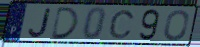0: (79, 6, 109, 42)
9: (138, 8, 161, 42)
C: (107, 9, 136, 40)
D: (49, 6, 80, 41)
J: (28, 7, 53, 39)
O: (163, 9, 190, 42)
